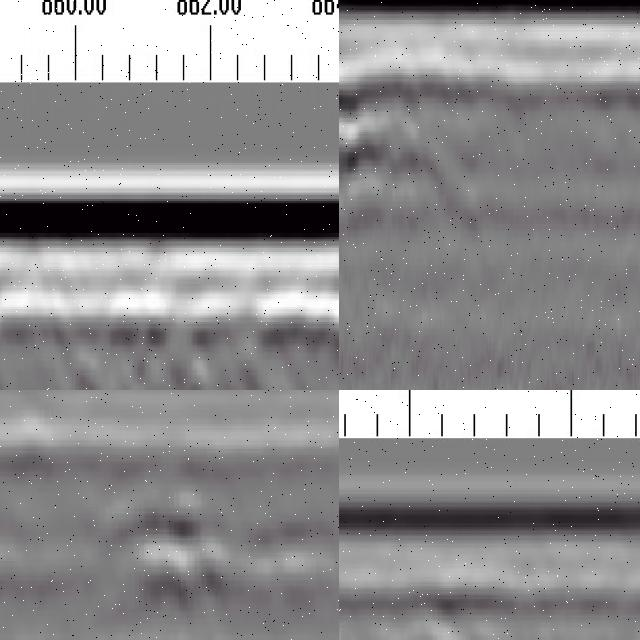loose: (1, 274, 316, 391), (117, 478, 340, 620), (340, 68, 466, 223)
